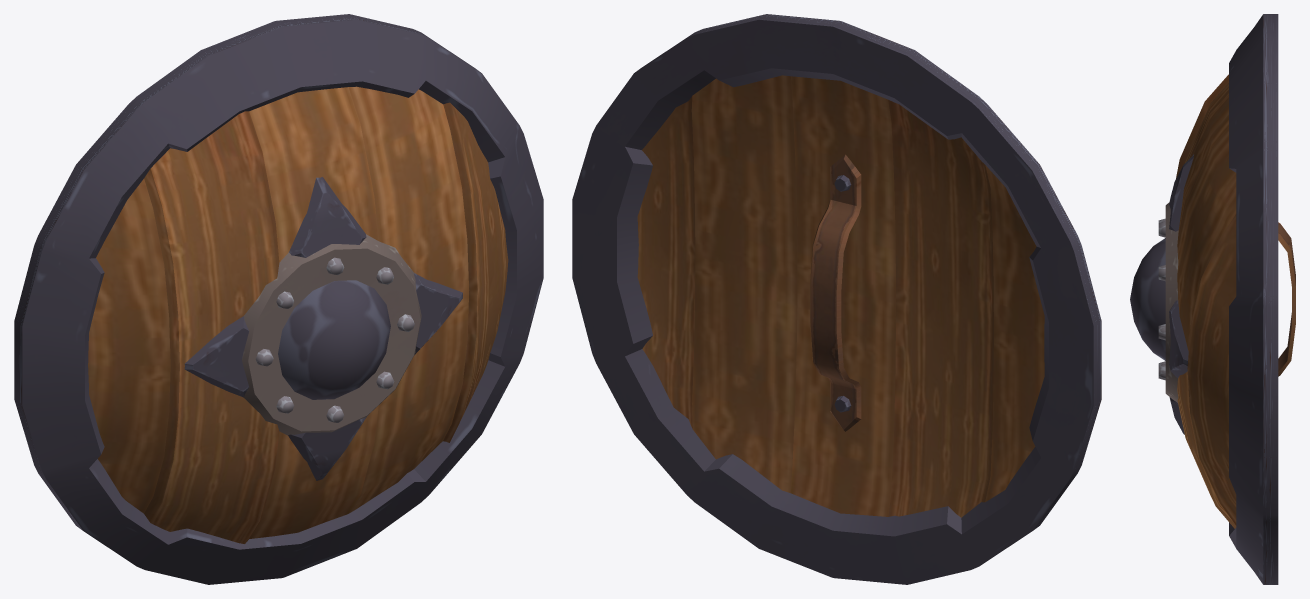
The model's file is shield_wooden.gltf.
The picture shows the model from 3 angles, left to right: view 1: azimuth 30°, elevation 25°; view 2: azimuth 150°, elevation 25°; view 3: azimuth 270°, elevation 25°; orthographic projection. The views are drawn at different scales.
Parts seen in each view (by area): view 1: Shield_Wooden; view 2: Shield_Wooden; view 3: Shield_Wooden.
Boxes of the visible parts, x1=… form: Shield_Wooden: x1=14, y1=14, x2=543, y2=584; Shield_Wooden: x1=572, y1=14, x2=1101, y2=584; Shield_Wooden: x1=1130, y1=14, x2=1295, y2=584.
Size of the model in its own units: 0.6146 by 0.6209 by 0.1788.
Materials: 3 (3 with a texture image).
